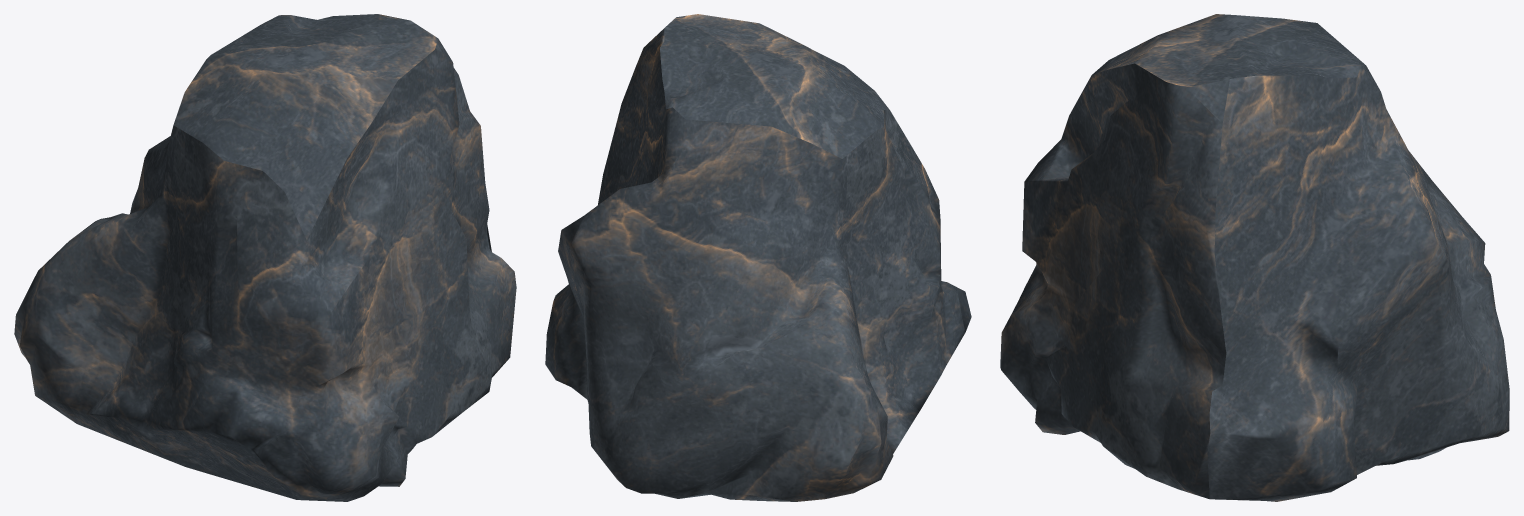
File: Rocher01_low_LOD1.fbx
3 views of the same model, side by side, from view 1: azimuth 30°, elevation 25°; view 2: azimuth 150°, elevation 25°; view 3: azimuth 270°, elevation 25° (orthographic). The views are drawn at different scales.
Parts seen in each view (by area): view 1: Rocher01_low_0; view 2: Rocher01_low_0; view 3: Rocher01_low_0.
Part boxes in pixels (x1,y1,x2,y2): Rocher01_low_0: (14,14,516,501); Rocher01_low_0: (545,14,971,501); Rocher01_low_0: (1000,14,1509,501).
Size of the model in its own units: 21.25 by 19.21 by 21.48.
1 material, 1 textured.
